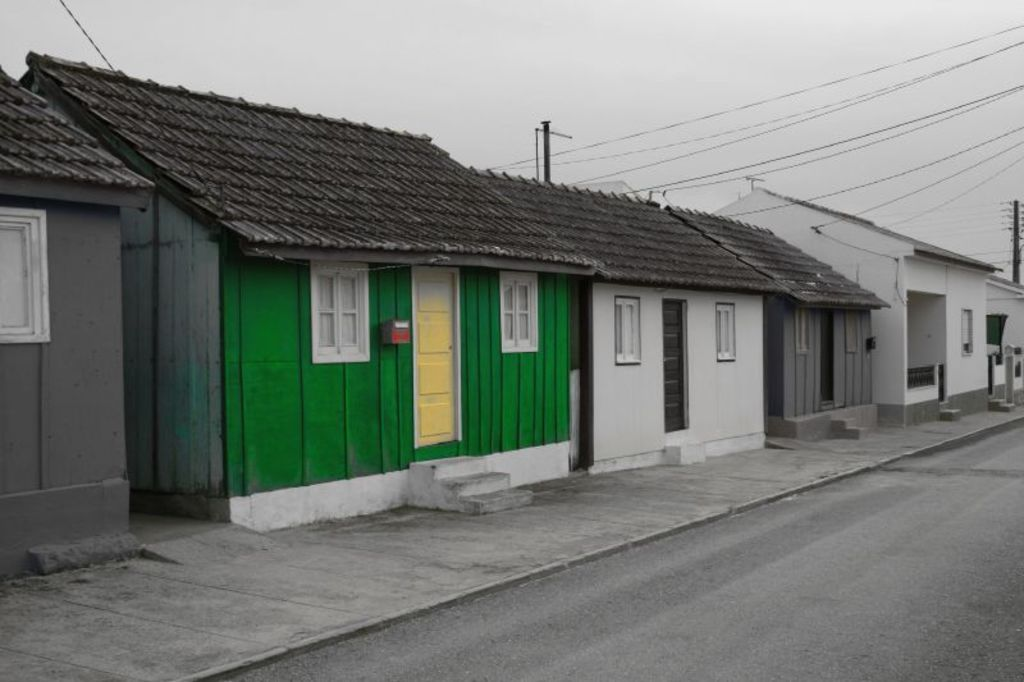Door: (416, 270, 460, 441), (662, 301, 684, 429), (818, 311, 837, 402)
